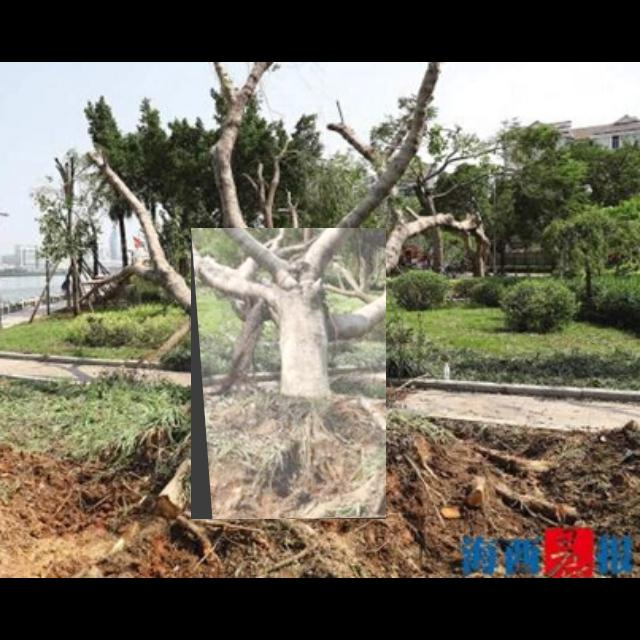Fallen Tree: (191, 228, 387, 520)
